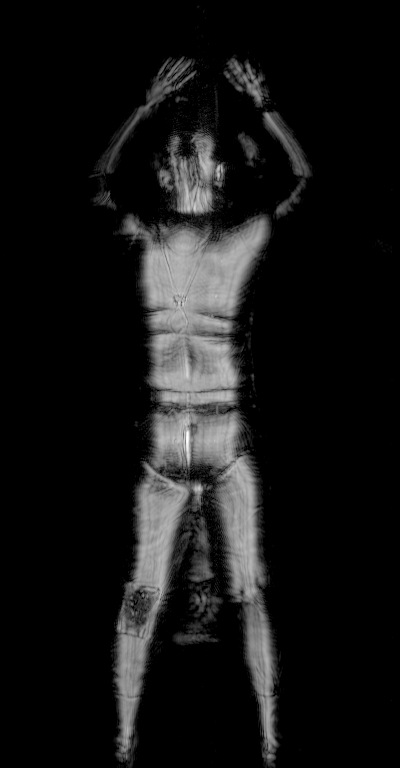head: (153, 124, 231, 197)
others: (111, 579, 165, 640)
person: (87, 56, 312, 768)
